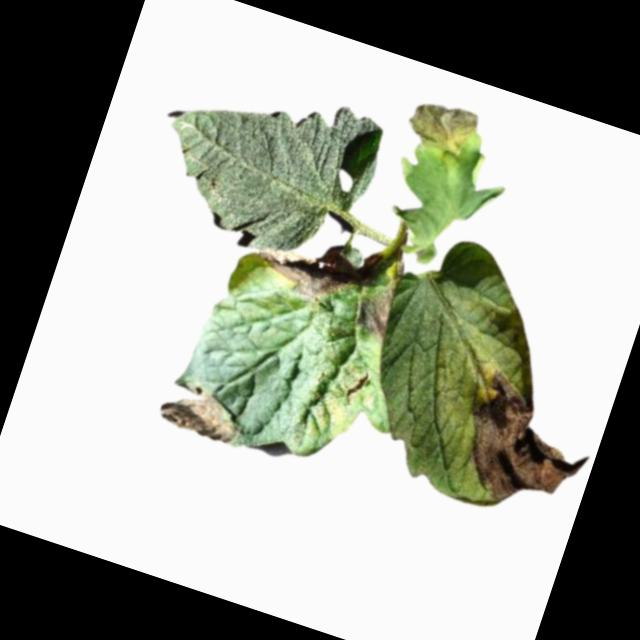Late_blight: (447, 361, 602, 523), (247, 222, 359, 310), (155, 377, 248, 448), (400, 94, 482, 165), (347, 274, 407, 346)
